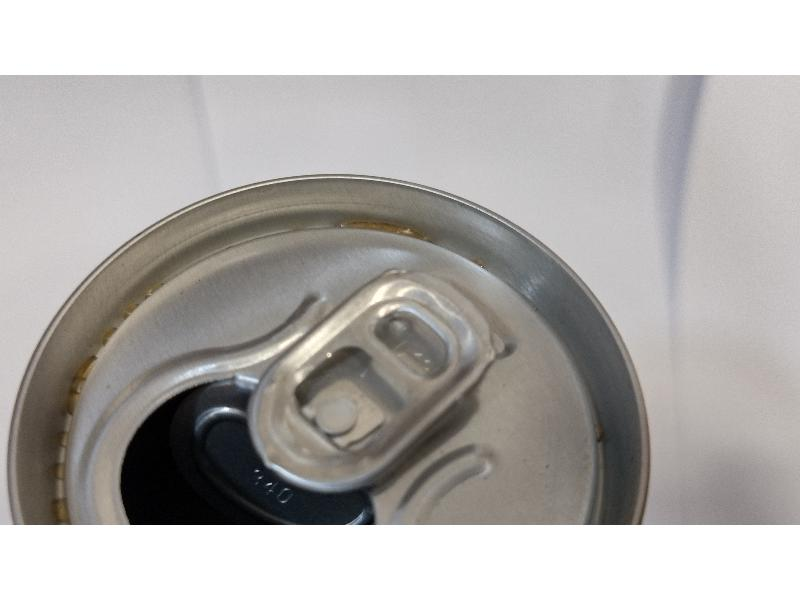can: (5, 168, 660, 525)
